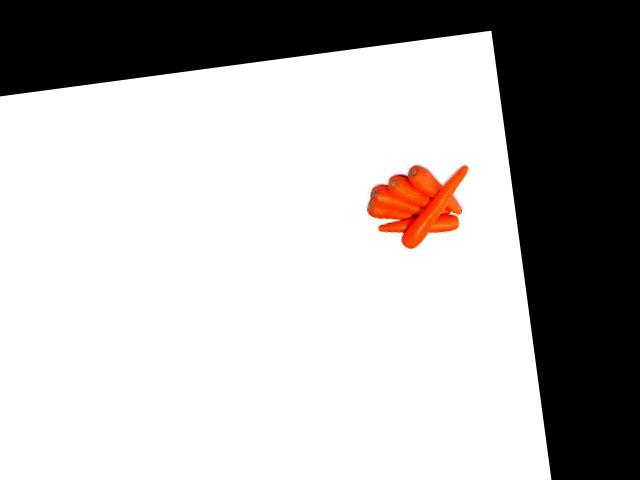carrot: (408, 152, 470, 220)
